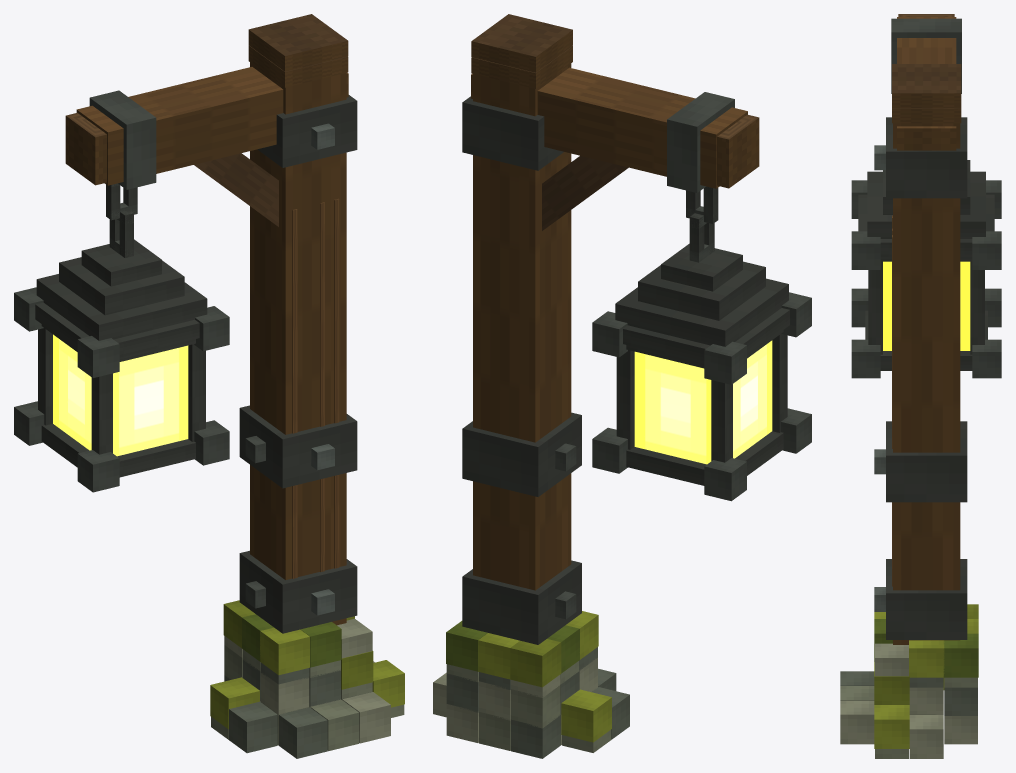
Rendered from SM_HP_Lantern_LOD2.fbx.
3 views of the same model, side by side, from view 1: azimuth 30°, elevation 25°; view 2: azimuth 150°, elevation 25°; view 3: azimuth 270°, elevation 25° (orthographic). The views are drawn at different scales.
Visible parts, largest first — view 1: SM_HP_Lantern_LOD2; view 2: SM_HP_Lantern_LOD2; view 3: SM_HP_Lantern_LOD2.
Boxes of the visible parts, <box> form: SM_HP_Lantern_LOD2: <box>14,14,404,758</box>; SM_HP_Lantern_LOD2: <box>433,14,811,758</box>; SM_HP_Lantern_LOD2: <box>840,14,1001,758</box>.
Size of the model in its own units: 159 by 72.05 by 318.
1 material, 1 textured.
